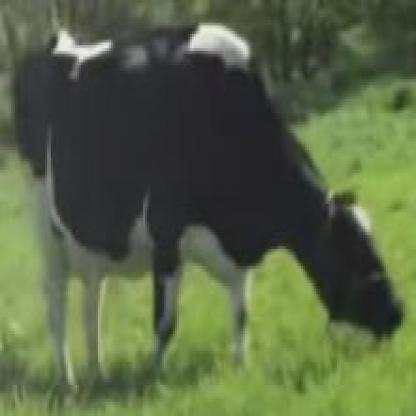cow: (42, 20, 406, 388)
